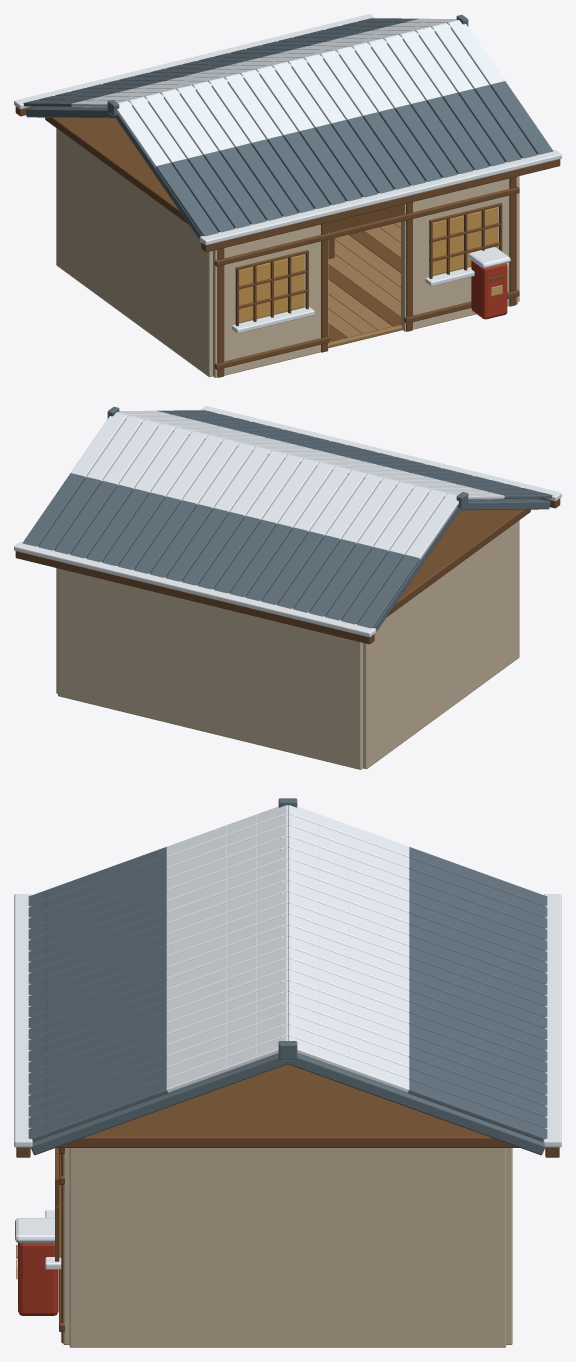
Rendered from post-office.glb.
The picture shows the model from 3 angles, top to bottom: view 1: azimuth 30°, elevation 25°; view 2: azimuth 150°, elevation 25°; view 3: azimuth 270°, elevation 25°; orthographic projection. The views are drawn at different scales.
Visible parts, largest first — view 1: PostOffice_Snow_caps, PostOffice_Grey_slate, PostOffice_Warm_plaster, PostOffice_Walnut_timber, PostOffice_Honey_edges, PostOffice_Warm_panes, PostOffice_Vermilion_postbox; view 2: PostOffice_Warm_plaster, PostOffice_Grey_slate, PostOffice_Snow_caps, PostOffice_Walnut_timber; view 3: PostOffice_Warm_plaster, PostOffice_Grey_slate, PostOffice_Snow_caps, PostOffice_Walnut_timber, PostOffice_Vermilion_postbox.
Part boxes in pixels (box(x1,y1,x2,y2)): PostOffice_Snow_caps: box(14, 14, 561, 333); PostOffice_Grey_slate: box(23, 14, 553, 239); PostOffice_Warm_plaster: box(56, 128, 519, 377); PostOffice_Walnut_timber: box(15, 106, 560, 377); PostOffice_Honey_edges: box(328, 222, 402, 348); PostOffice_Warm_panes: box(239, 207, 497, 322); PostOffice_Vermilion_postbox: box(471, 260, 507, 319); PostOffice_Warm_plaster: box(56, 520, 519, 769); PostOffice_Grey_slate: box(22, 406, 552, 631); PostOffice_Snow_caps: box(14, 406, 561, 637); PostOffice_Walnut_timber: box(15, 498, 560, 644); PostOffice_Warm_plaster: box(63, 1148, 512, 1347); PostOffice_Grey_slate: box(28, 798, 547, 1155); PostOffice_Snow_caps: box(14, 805, 561, 1269); PostOffice_Walnut_timber: box(16, 1064, 559, 1343); PostOffice_Vermilion_postbox: box(18, 1242, 58, 1315).
Bounding box in the file's own units: 9.4 × 5.64 × 8.78.
